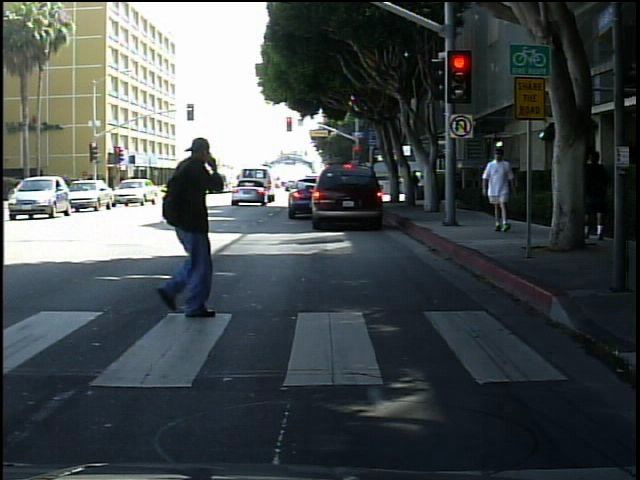person: (129, 121, 241, 335), (480, 145, 521, 240), (580, 137, 612, 246)
